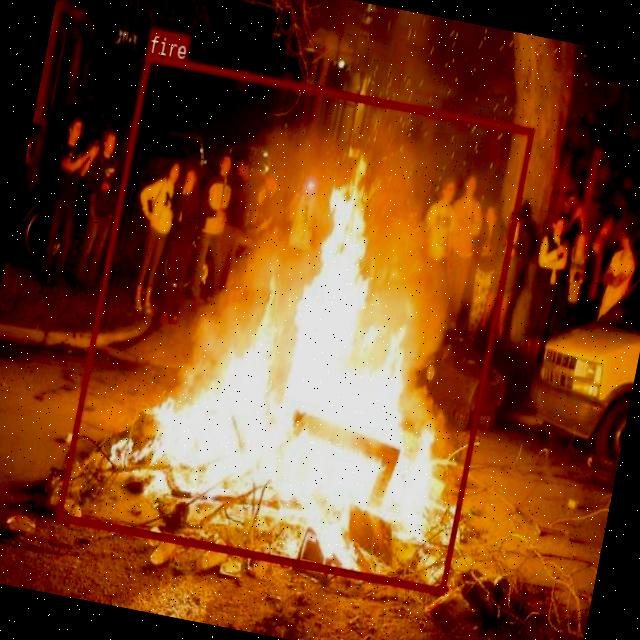fire: (56, 53, 533, 593)
